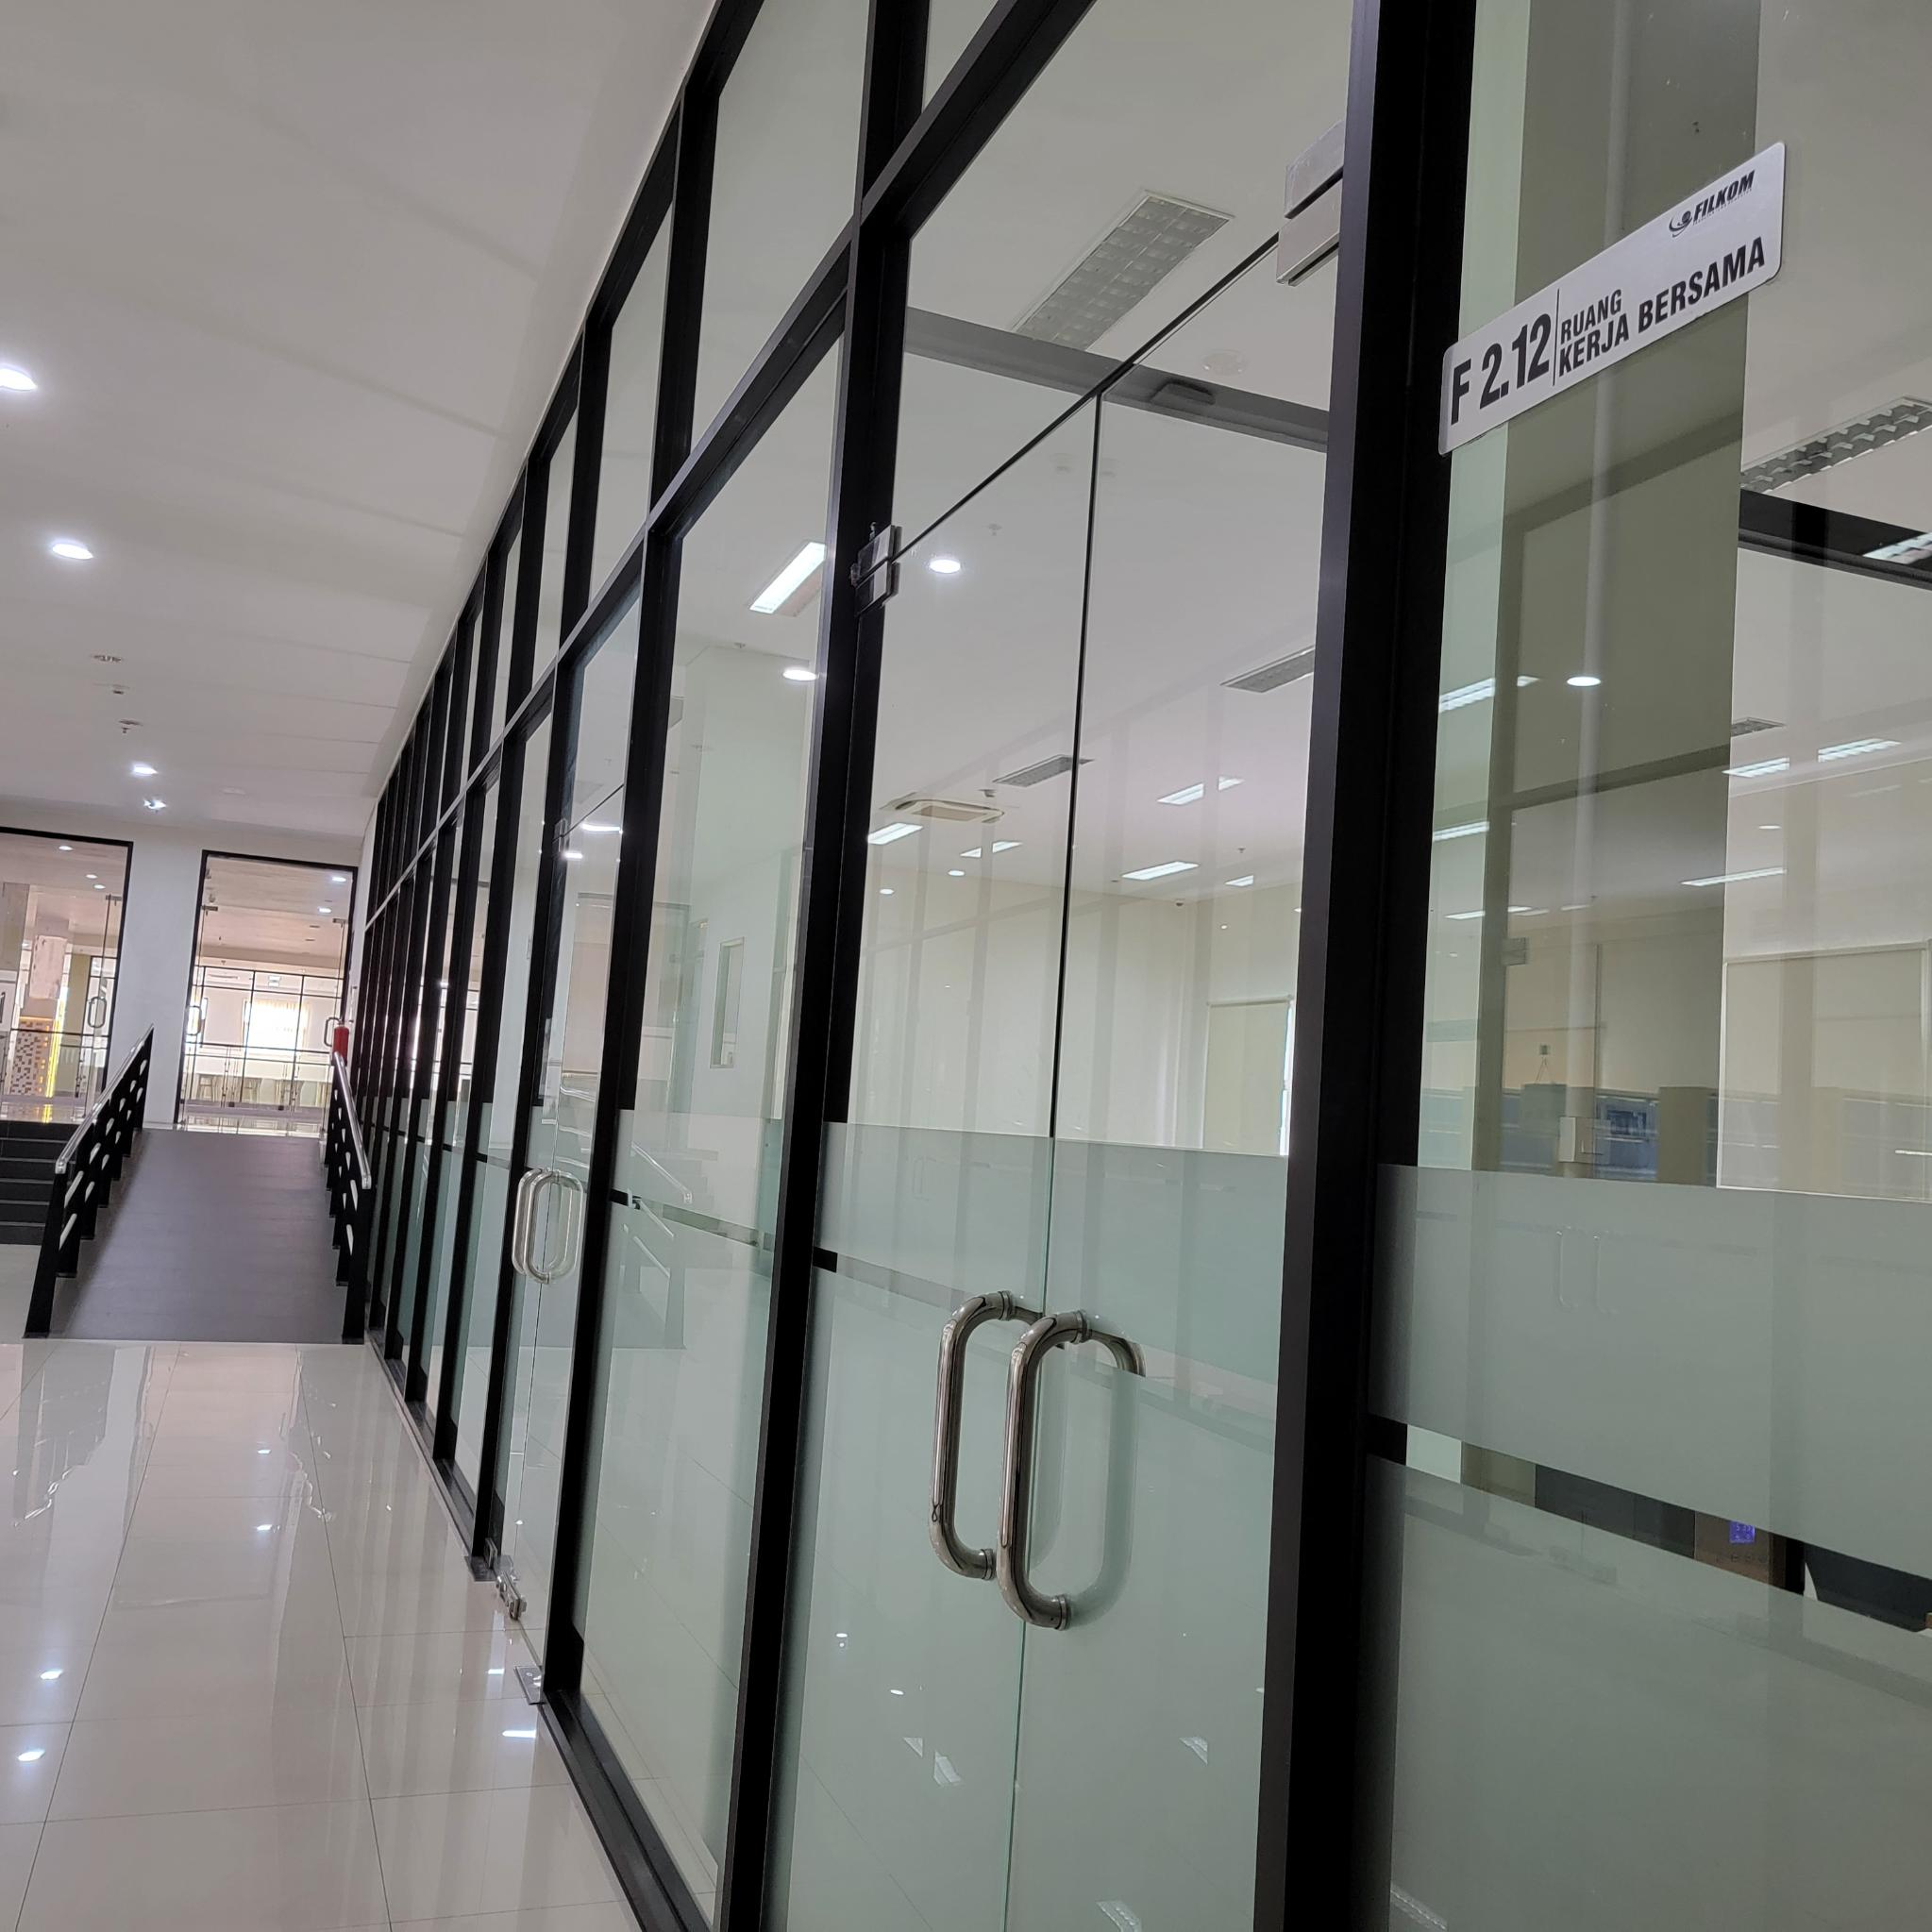plate: (1437, 140, 1790, 458)
